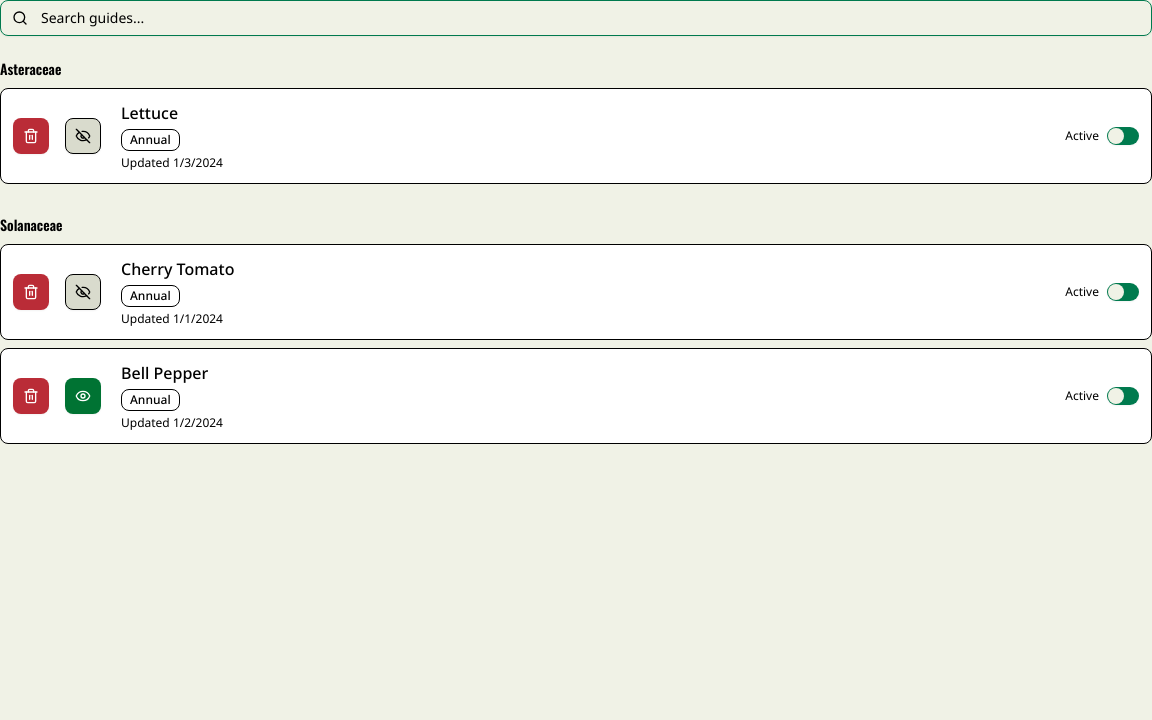
Test: GrowGuideListPresenter › Delete Functionality › shows delete confirmation dialog
The image size is (1152, 720).
Step 1. Click the button named "delete" → (31, 136), box [13, 118, 49, 154]
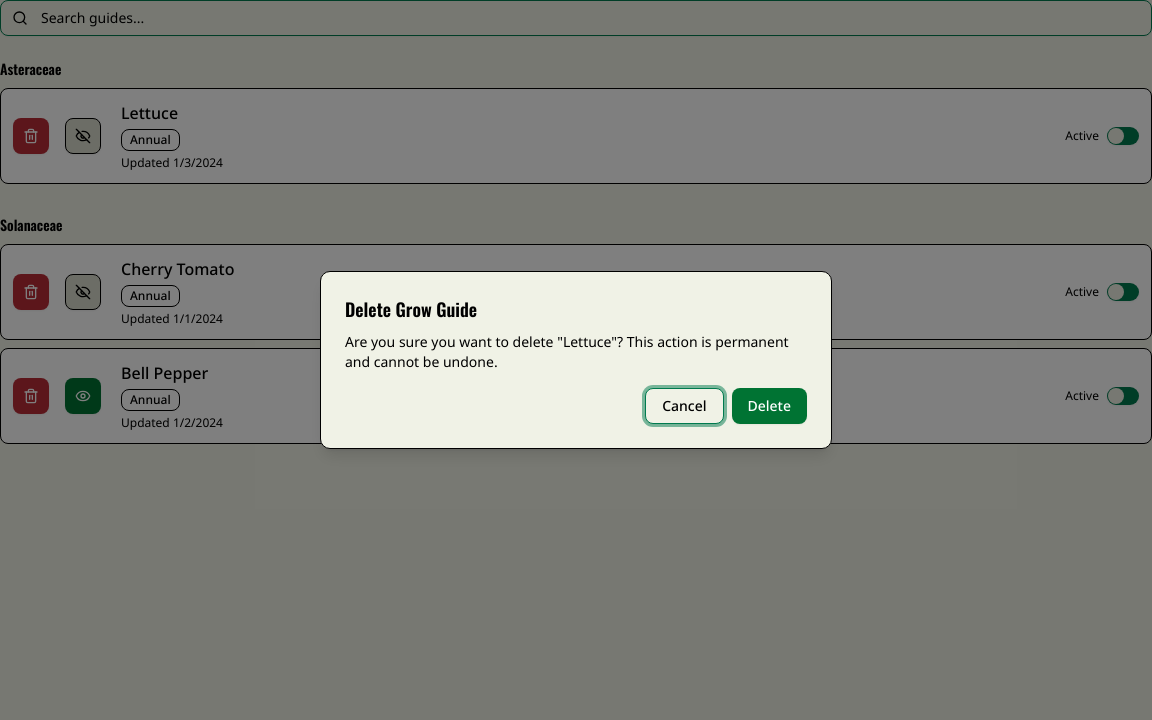
Expected: the heading "Delete Grow Guide" is shown, [345, 298, 477, 322]
